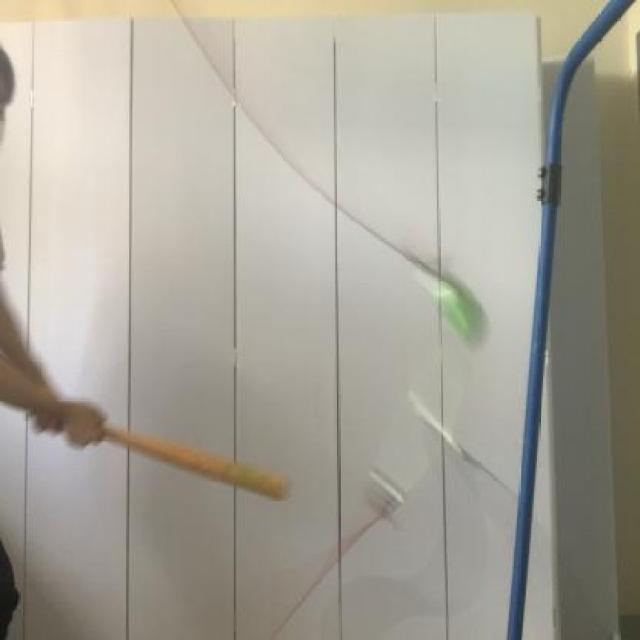baseball: (424, 265, 490, 350)
